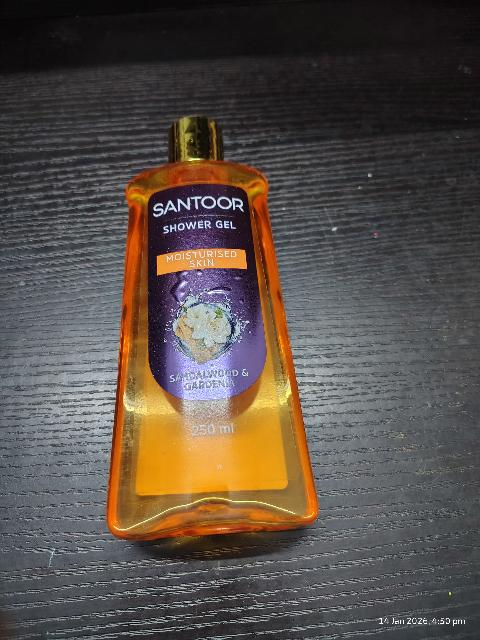santoor bodywash: (102, 126, 313, 523)
